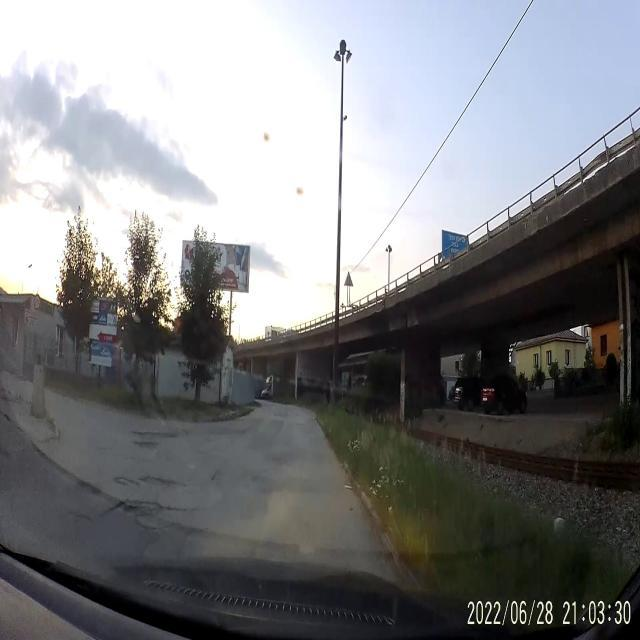Pothole: (120, 497, 186, 515), (138, 468, 187, 491), (137, 512, 169, 530), (132, 428, 180, 440), (112, 472, 140, 489), (131, 438, 159, 454), (76, 512, 92, 524), (209, 476, 216, 482)
